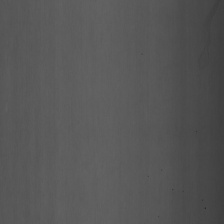inclusion: (196, 12, 221, 71), (200, 195, 207, 213)
